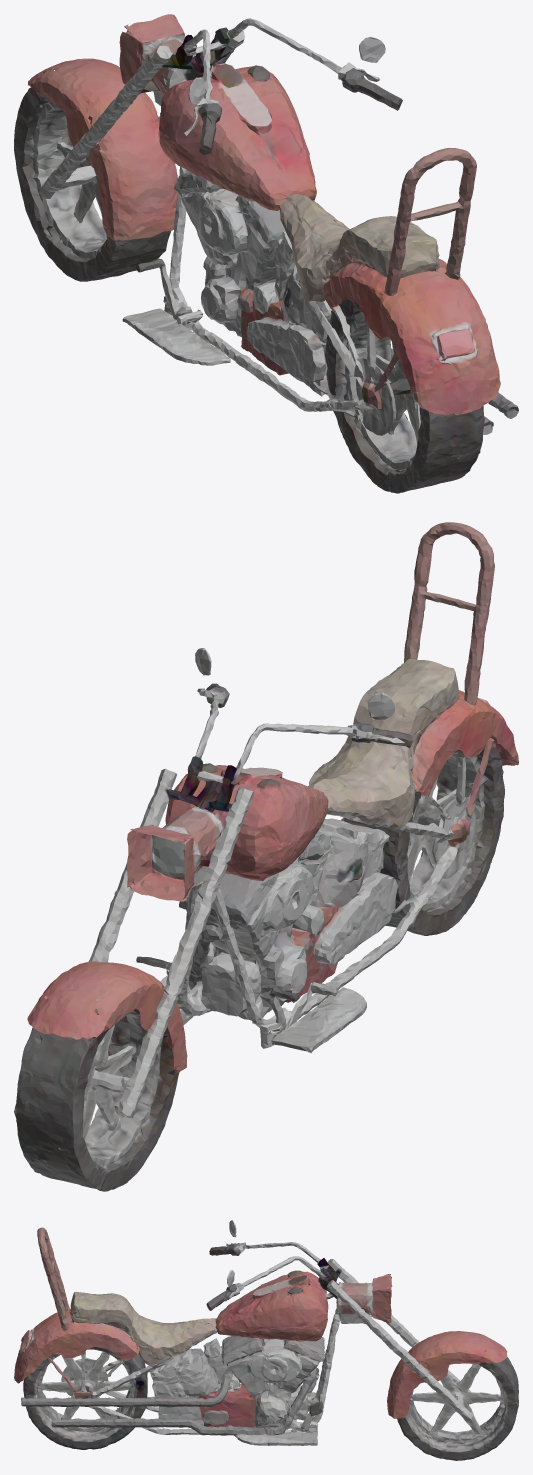
3 views of the same model, one above another, from view 1: azimuth 30°, elevation 25°; view 2: azimuth 150°, elevation 25°; view 3: azimuth 270°, elevation 25° (orthographic). The views are drawn at different scales.
Parts seen in each view (by area): view 1: defaultobject; view 2: defaultobject; view 3: defaultobject.
Part boxes in pixels (left/top/right/bottom): defaultobject: left=14, top=14, right=518, bottom=493; defaultobject: left=14, top=522, right=518, bottom=1191; defaultobject: left=14, top=1220, right=518, bottom=1460.
Bounding box in the file's own units: 0.2655 × 0.4627 × 0.9512.
